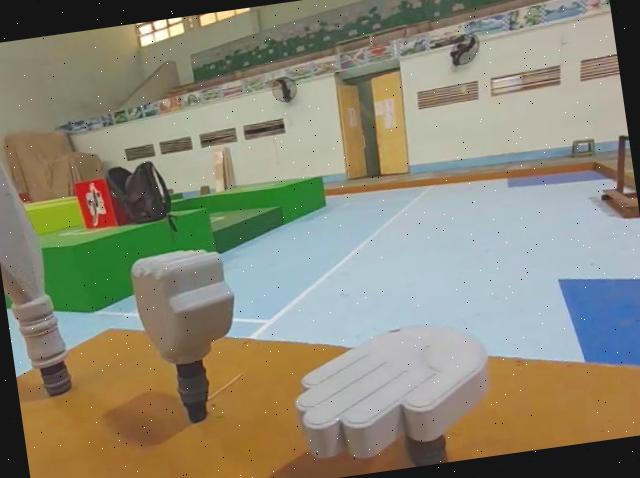Fist: (127, 243, 253, 429)
Hand: (282, 319, 488, 478)
Sph: (0, 105, 79, 409)
